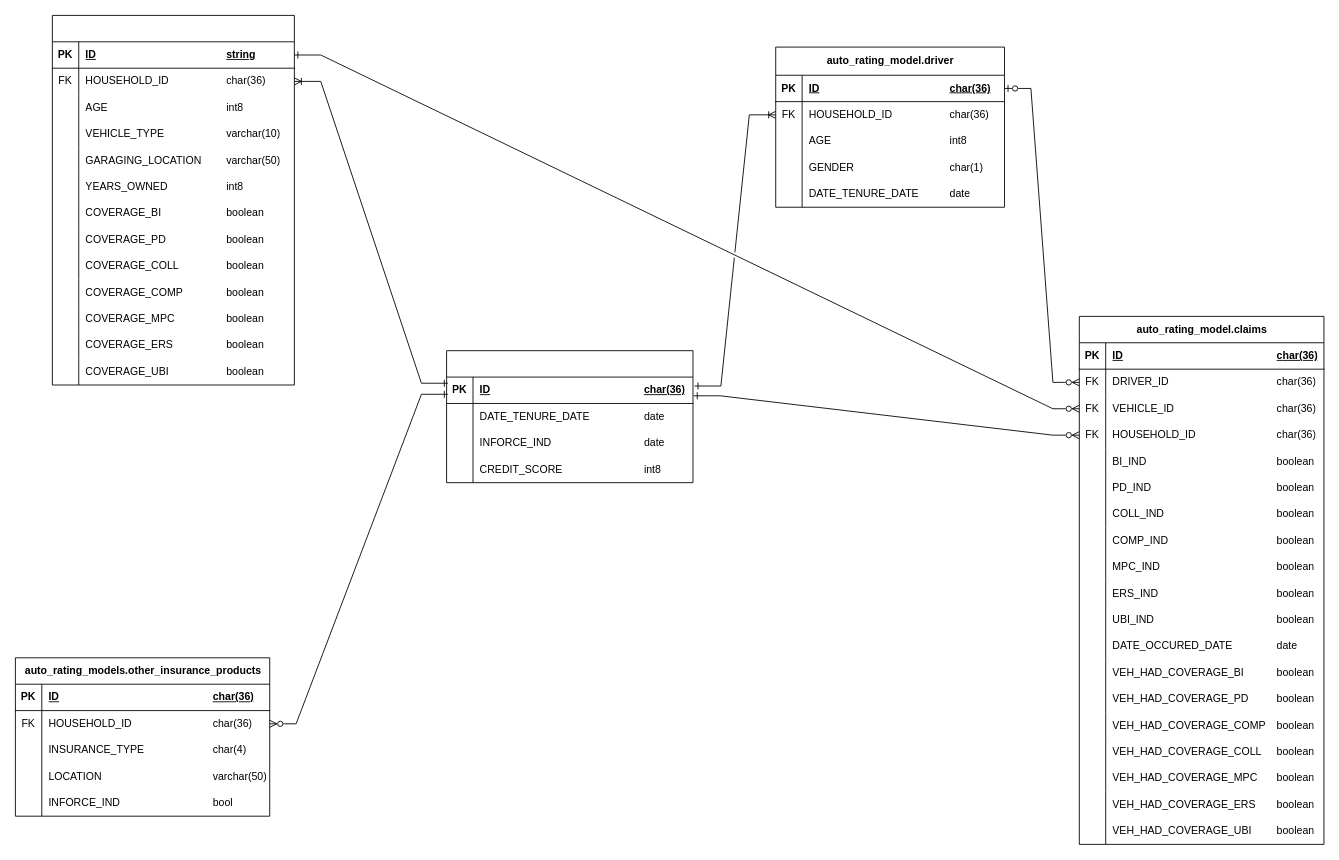
Some shapes in this 1339 by 860 pixel diagram are drawn without their labels. Here are the shapes that lost their labels. From the top down, the box of each, then its label:
(51, 15, 294, 385): auto_rating_models.vehicle
(446, 350, 693, 483): auto_rating_models.household
